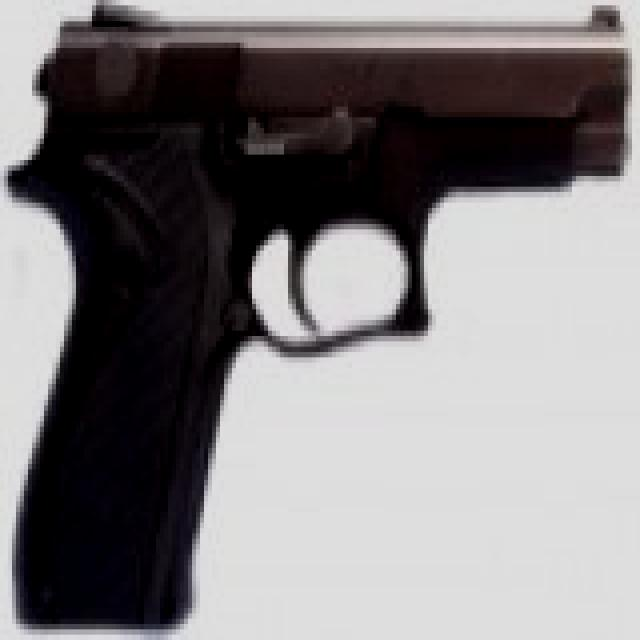pistol: (16, 0, 628, 619)
